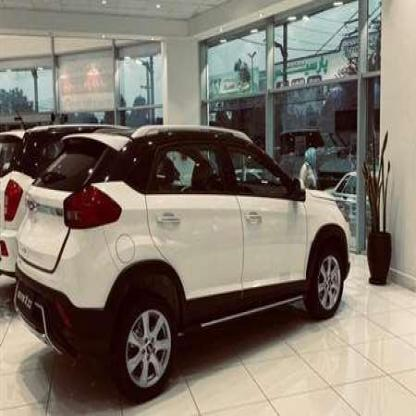Car: (19, 144, 352, 372), (0, 125, 73, 288)
